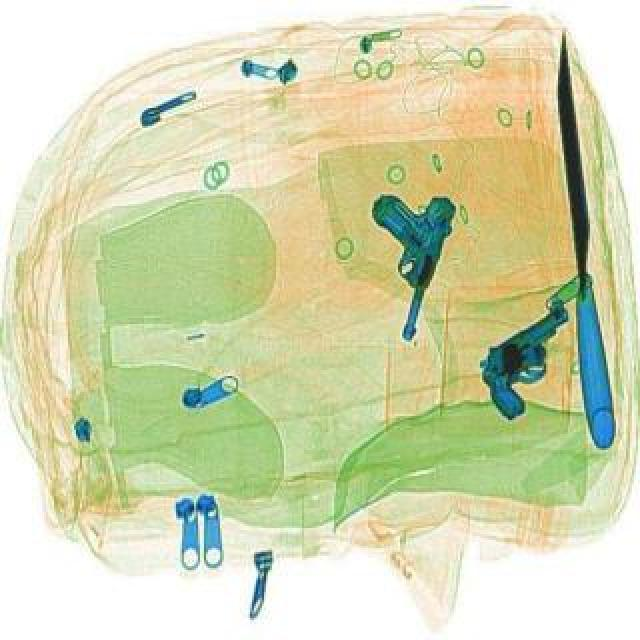gun: (336, 184, 466, 348), (462, 302, 606, 426)
knife: (548, 34, 620, 454)
